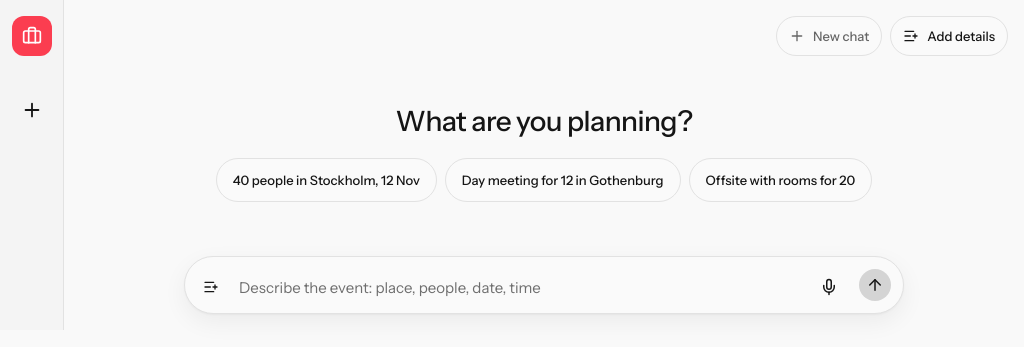
Test: composer microphone › returns Speak after network
Click the button named "Speak": (829, 287) left=809, top=267, right=849, bottom=307
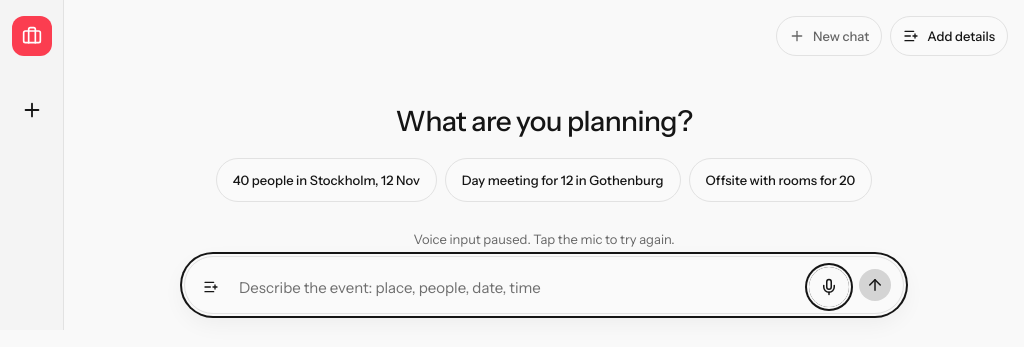
Now the message reads "Voice input paused. Tap the mic to try again.", box left=413, top=231, right=675, bottom=247
